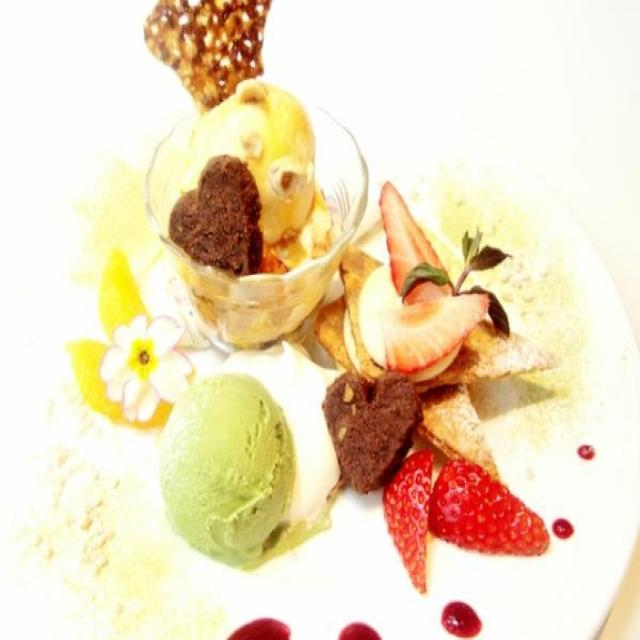蛋糕甜品: (23, 18, 618, 615)
